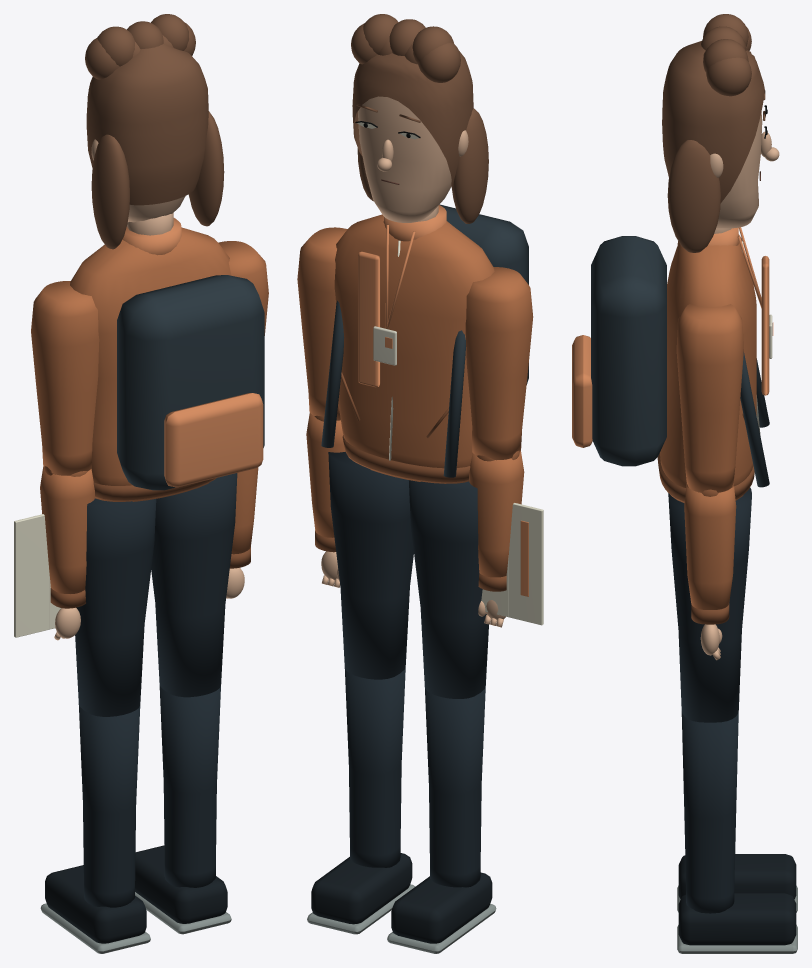
The model's file is npc_international.glb.
3 views of the same model, side by side, from view 1: azimuth 30°, elevation 25°; view 2: azimuth 150°, elevation 25°; view 3: azimuth 270°, elevation 25° (orthographic).
Parts seen in each view (by area): view 1: BobSide, Backpack, TrouserThigh.001, TrouserThigh, QuietClothTorso, Sleeve, Knee.001, Knee, BackpackFrontPocket, ElbowTransition, FoldedMap, OrdinaryShoe (+9 smaller); view 2: QuietClothTorso, TrouserThigh.001, BobSide, TrouserThigh, Sleeve, Knee.001, Knee, AdultFace, Backpack, Sleeve.001, ElbowTransition, OrdinaryShoe.001 (+10 smaller); view 3: Backpack, BobSide, Sleeve.001, Knee.001, QuietClothTorso, TrouserThigh.001, ElbowTransition.001, OrdinaryShoe.001, BackpackFrontPocket, AdultFace, OrdinaryShoe, ShoeSole.001 (+3 smaller).
Boxes of the visible parts, x1,y1,x2,y2 form: BobSide: (85, 14, 224, 249); Backpack: (117, 275, 264, 490); TrouserThigh.001: (151, 473, 237, 697); TrouserThigh: (75, 498, 156, 716); QuietClothTorso: (70, 227, 230, 501); Sleeve: (31, 281, 99, 475); Knee.001: (159, 685, 220, 887); Knee: (78, 704, 140, 907); BackpackFrontPocket: (122, 218, 263, 487); ElbowTransition: (40, 466, 94, 593); FoldedMap: (14, 514, 60, 637); OrdinaryShoe: (45, 865, 146, 943); QuietClothTorso: (334, 214, 494, 483); TrouserThigh.001: (328, 452, 413, 679); BobSide: (351, 14, 488, 223); TrouserThigh: (409, 480, 488, 698); Sleeve: (465, 267, 533, 459); Knee.001: (344, 667, 405, 867); Knee: (425, 687, 485, 887); AdultFace: (358, 96, 468, 222); Backpack: (321, 204, 528, 477); Sleeve.001: (297, 227, 347, 420); ElbowTransition: (469, 450, 524, 577); OrdinaryShoe.001: (311, 853, 412, 924); Backpack: (591, 236, 769, 487); BobSide: (662, 14, 765, 252); Sleeve.001: (676, 304, 743, 492); Knee.001: (681, 711, 738, 913); QuietClothTorso: (660, 235, 756, 502); TrouserThigh.001: (668, 487, 751, 722); ElbowTransition.001: (684, 480, 736, 609); OrdinaryShoe.001: (678, 893, 796, 945); BackpackFrontPocket: (572, 227, 773, 447); AdultFace: (710, 111, 779, 228); OrdinaryShoe: (678, 854, 796, 899); ShoeSole.001: (677, 924, 797, 953).
Size of the model in its own units: 0.4425 by 1.56 by 0.3555.
